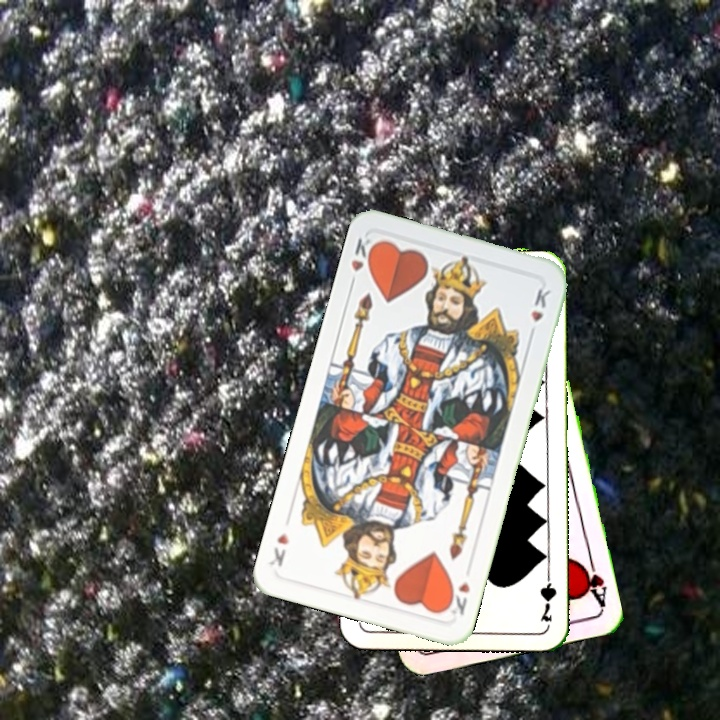G7: (536, 566, 559, 625)
HA: (576, 554, 609, 612)
HK: (345, 233, 380, 290), (441, 578, 473, 618)
